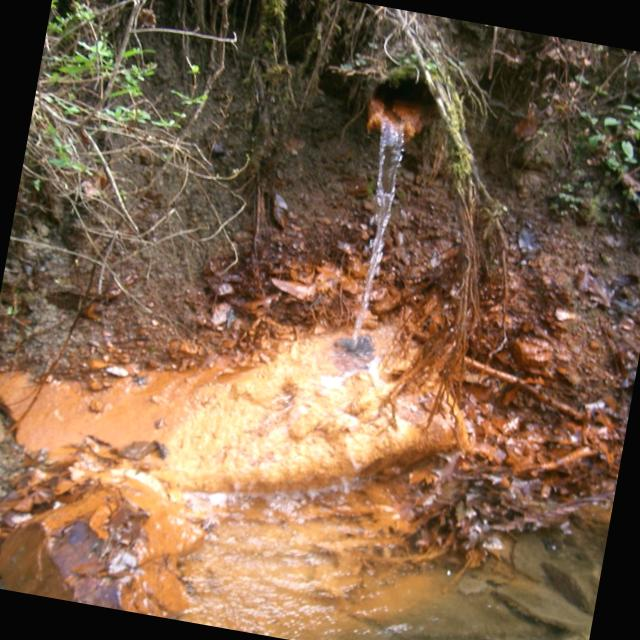yellow_boy: (19, 333, 467, 635)
